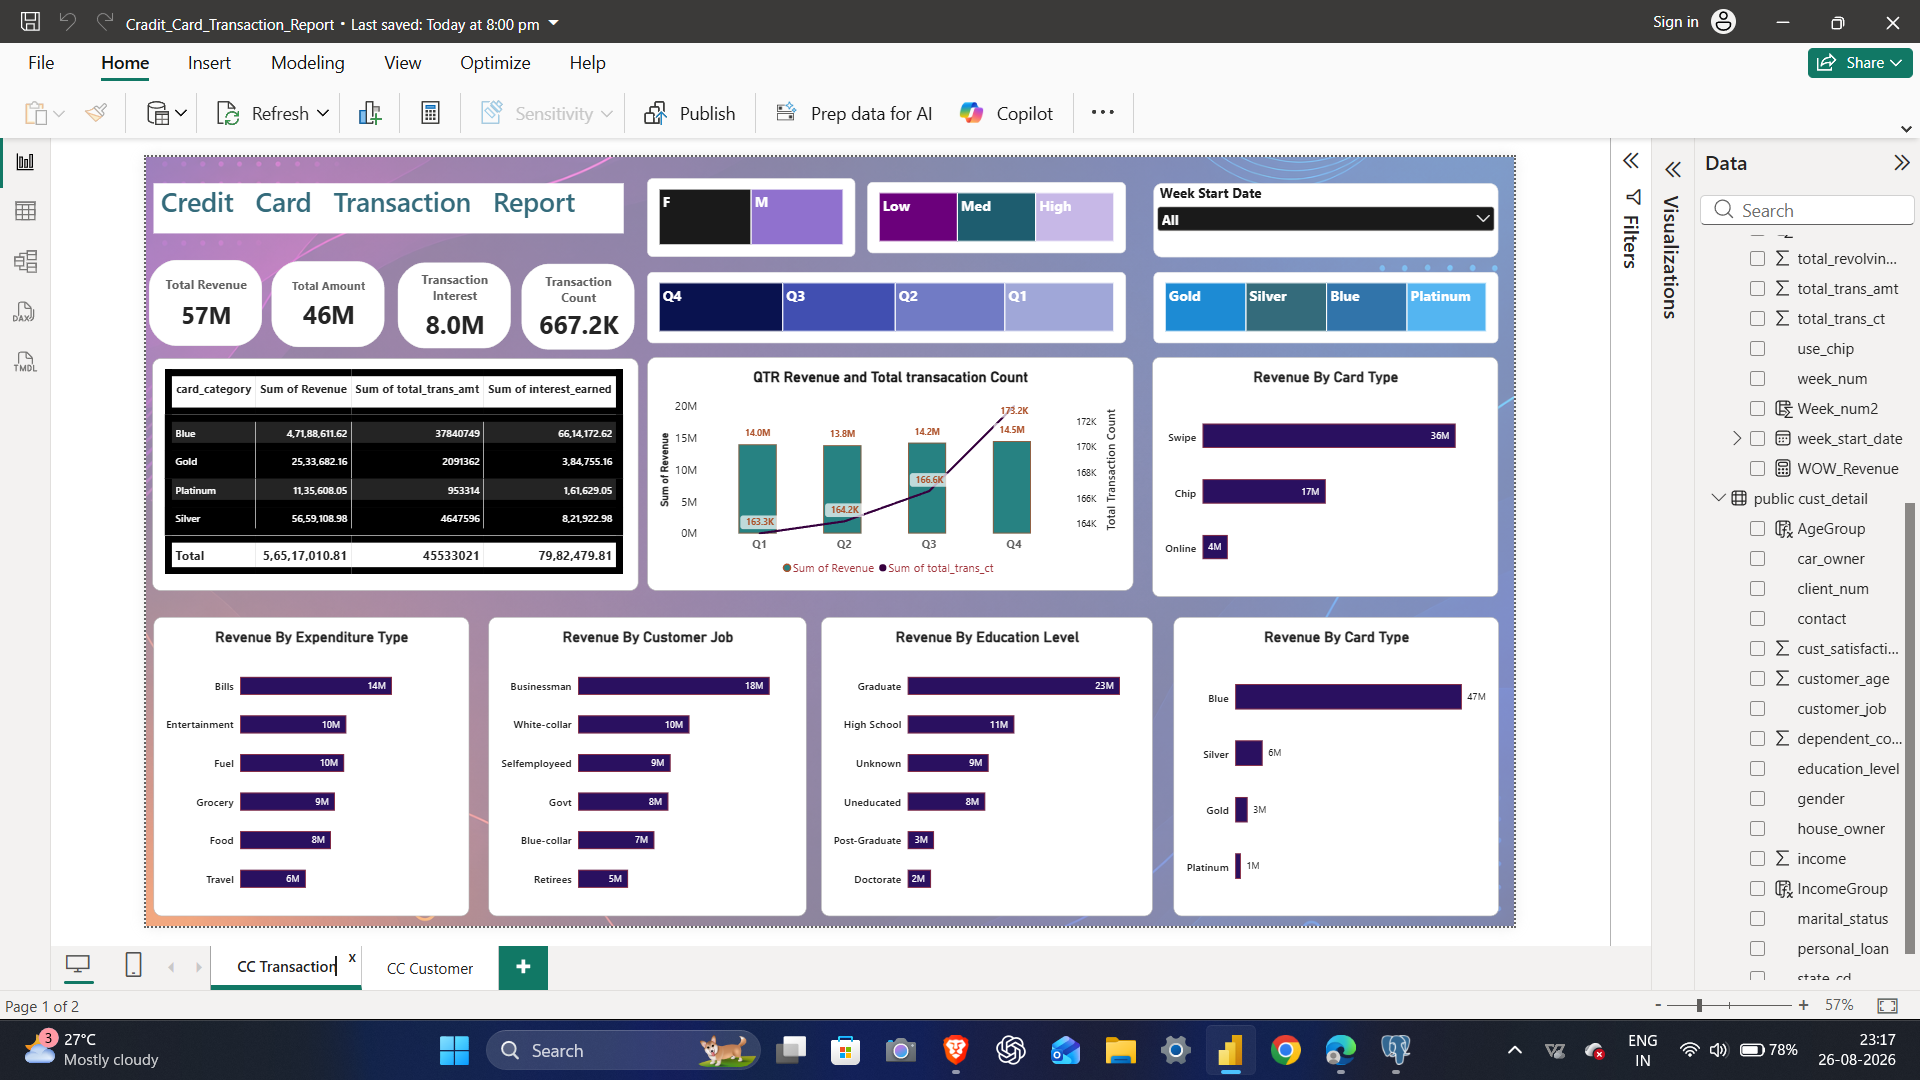

This screenshot's page, from the dashboard's own definition file:
{"tool":"powerbi","page":{"name":"CC Transaction","canvas":[1920,1080],"ordinal":0},"visuals":[{"type":"textbox","box":[10,36,660,70],"z":0},{"type":"lineStackedColumnComboChart","title":"QTR Revenue and Total transacation Count","fields":{"Category":["public cc_detail.qtr"],"Y2":["Sum(public cc_detail.total_trans_ct)"],"Y":["Sum(public cc_detail.Revenue)"]},"box":[704,280,682,328],"z":1000},{"type":"barChart","title":"Revenue By Expenditure Type","fields":{"Category":["public cc_detail.exp_type"],"Y":["Sum(public cc_detail.Revenue)"]},"box":[10.5,645.4,443,420.4],"z":2000},{"type":"barChart","title":"Revenue By Customer Job ","fields":{"Category":["public cust_detail.customer_job"],"Y":["Sum(public cc_detail.Revenue)"]},"box":[480,646,446.5,420.4],"z":3000},{"type":"barChart","title":"Revenue By Education Level ","fields":{"Category":["public cust_detail.education_level"],"Y":["Sum(public cc_detail.Revenue)"]},"box":[948,646,465.7,420.4],"z":4000},{"type":"barChart","title":"Revenue By Card Type","fields":{"Category":["public cc_detail.card_category"],"Y":["Sum(public cc_detail.Revenue)"]},"box":[1442.4,645.4,456.7,420],"z":5000},{"type":"barChart","title":"Revenue By Card Type","fields":{"Category":["public cc_detail.use_chip"],"Y":["Sum(public cc_detail.Revenue)"]},"box":[1412.3,280.7,486,336.8],"z":6000},{"type":"tableEx","fields":{"Values":["public cc_detail.card_category","Sum(public cc_detail.Revenue)","Sum(public cc_detail.total_trans_amt)","Sum(public cc_detail.interest_earned)"]},"box":[8,282,682,326],"z":7000},{"type":"cardVisual","fields":{"Data":["Sum(public cc_detail.Revenue)"]},"box":[0,140,167.4,129.1],"z":8000},{"type":"cardVisual","fields":{"Data":["Sum(public cc_detail.total_trans_amt)"]},"box":[172,142,167.4,129.1],"z":9000},{"type":"cardVisual","fields":{"Data":["Sum(public cc_detail.interest_earned)"]},"box":[350,144,167.4,129.1],"z":10000},{"type":"cardVisual","fields":{"Data":["Sum(public cc_detail.total_trans_ct)"]},"box":[522,146,167.4,129.1],"z":11000},{"type":"slicer","fields":{"Values":["public cc_detail.week_start_date"]},"box":[1414,36,484,104],"z":12000},{"type":"treemap","fields":{"Group":["public cc_detail.card_category"],"Values":["Avg(public cust_detail.client_num)"]},"box":[1414,162,484,100],"z":13000},{"type":"treemap","fields":{"Group":["public cust_detail.gender"],"Values":["Avg(public cust_detail.client_num)"]},"box":[704,30,292,110],"z":14000},{"type":"treemap","fields":{"Group":["public cc_detail.qtr"],"Values":["Avg(public cust_detail.client_num)"]},"box":[704,162,672,100],"z":15000},{"type":"treemap","fields":{"Group":["public cust_detail.IncomeGroup"],"Values":["Avg(public cust_detail.client_num)"]},"box":[1012.3,35.1,363.2,100],"z":16000}]}

Visuals, with their boxes on the page's 1920x1080 design canvas (x1, y1, x2, y2). These are canvas units, not pixel positions in the 1920x1080 screenshot, which may show the page scaled, cropped or inside an application window:
textbox: {"x1": 10, "y1": 36, "x2": 670, "y2": 106}
"QTR Revenue and Total transacation Count" lineStackedColumnComboChart: {"x1": 704, "y1": 280, "x2": 1386, "y2": 608}
"Revenue By Expenditure Type" barChart: {"x1": 10, "y1": 645, "x2": 454, "y2": 1066}
"Revenue By Customer Job " barChart: {"x1": 480, "y1": 646, "x2": 926, "y2": 1066}
"Revenue By Education Level " barChart: {"x1": 948, "y1": 646, "x2": 1414, "y2": 1066}
"Revenue By Card Type" barChart: {"x1": 1442, "y1": 645, "x2": 1899, "y2": 1065}
"Revenue By Card Type" barChart: {"x1": 1412, "y1": 281, "x2": 1898, "y2": 618}
tableEx - public cc_detail.card_category x Sum(public cc_detail.Revenue): {"x1": 8, "y1": 282, "x2": 690, "y2": 608}
cardVisual - Sum(public cc_detail.Revenue): {"x1": 0, "y1": 140, "x2": 167, "y2": 269}
cardVisual - Sum(public cc_detail.total_trans_amt): {"x1": 172, "y1": 142, "x2": 339, "y2": 271}
cardVisual - Sum(public cc_detail.interest_earned): {"x1": 350, "y1": 144, "x2": 517, "y2": 273}
cardVisual - Sum(public cc_detail.total_trans_ct): {"x1": 522, "y1": 146, "x2": 689, "y2": 275}
slicer - public cc_detail.week_start_date: {"x1": 1414, "y1": 36, "x2": 1898, "y2": 140}
treemap - public cc_detail.card_category x Avg(public cust_detail.client_num): {"x1": 1414, "y1": 162, "x2": 1898, "y2": 262}
treemap - public cust_detail.gender x Avg(public cust_detail.client_num): {"x1": 704, "y1": 30, "x2": 996, "y2": 140}
treemap - public cc_detail.qtr x Avg(public cust_detail.client_num): {"x1": 704, "y1": 162, "x2": 1376, "y2": 262}
treemap - public cust_detail.IncomeGroup x Avg(public cust_detail.client_num): {"x1": 1012, "y1": 35, "x2": 1376, "y2": 135}
